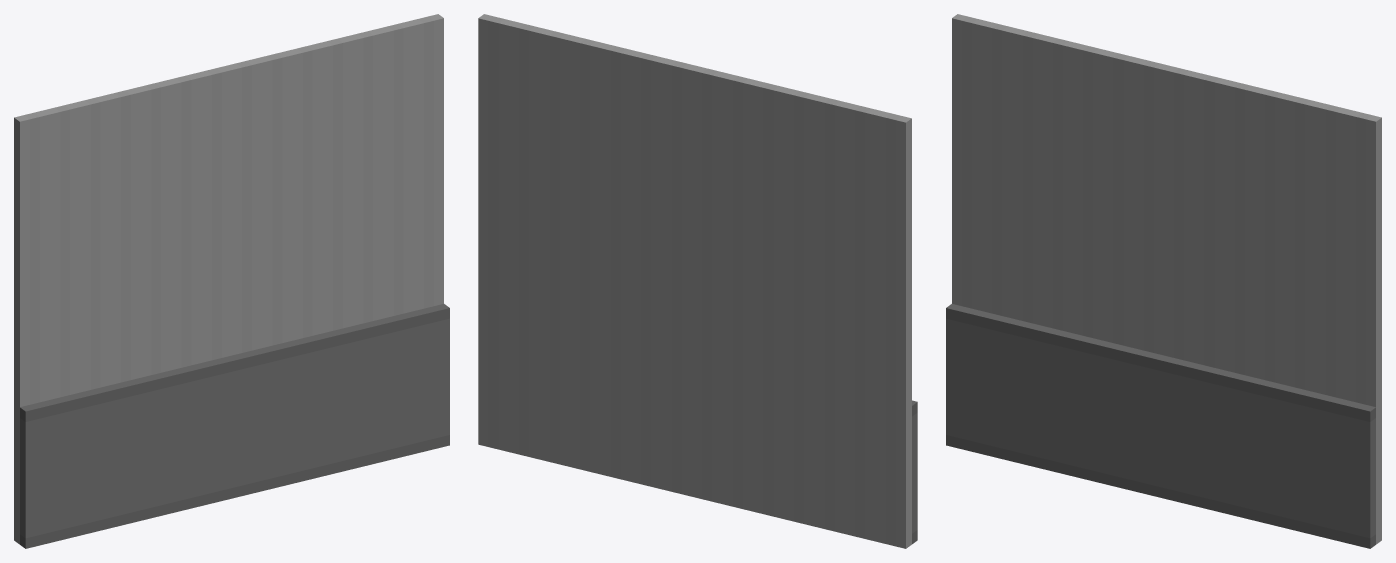
Rendered from стена нижняя часть.obj.
3 views of the same model, side by side, from view 1: azimuth 30°, elevation 25°; view 2: azimuth 150°, elevation 25°; view 3: azimuth 330°, elevation 25° (orthographic).
Size of the model in its own units: 4.2 by 4 by 0.2.
1 material, 1 textured.
